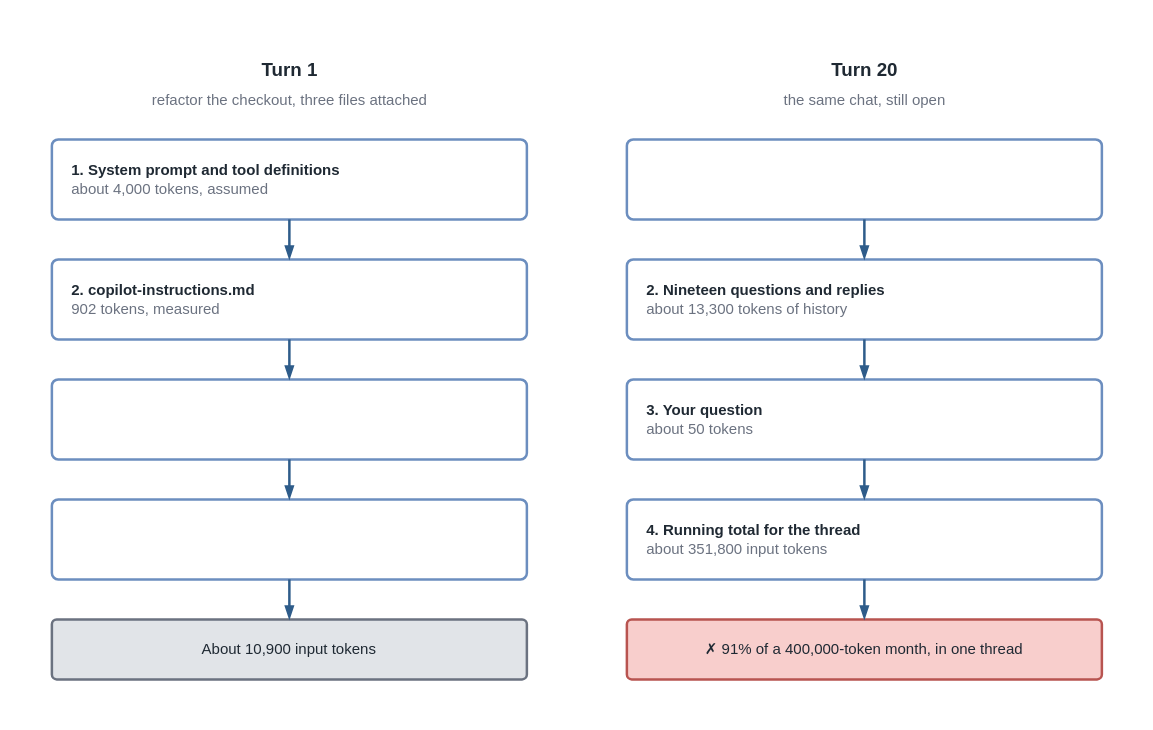
This 1153x730 diagram has some shape labels left out. Each missing label, with the centre of its shape:
"1. Everything from turn 1 about 10,900 tokens, sent again" belongs at (x=863, y=179).
"3. checkout_screen, cart_bloc, order.dart 5,989 tokens, measured" belongs at (x=289, y=419).
"4. Your question about 50 tokens" belongs at (x=289, y=539).
